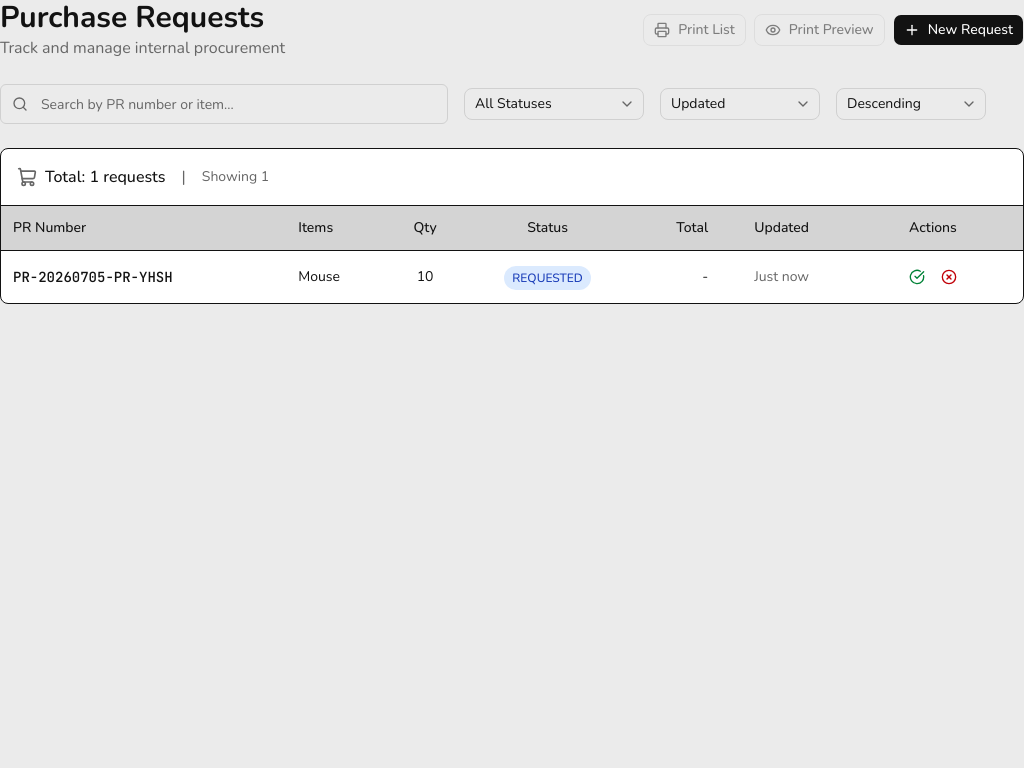
Test: PurchaseRequestsClient › opens reject dialog when reject button clicked
This screenshot has width=1024, height=768.
Click the button titled "Reject" at (949, 277), box [935,263,963,291]
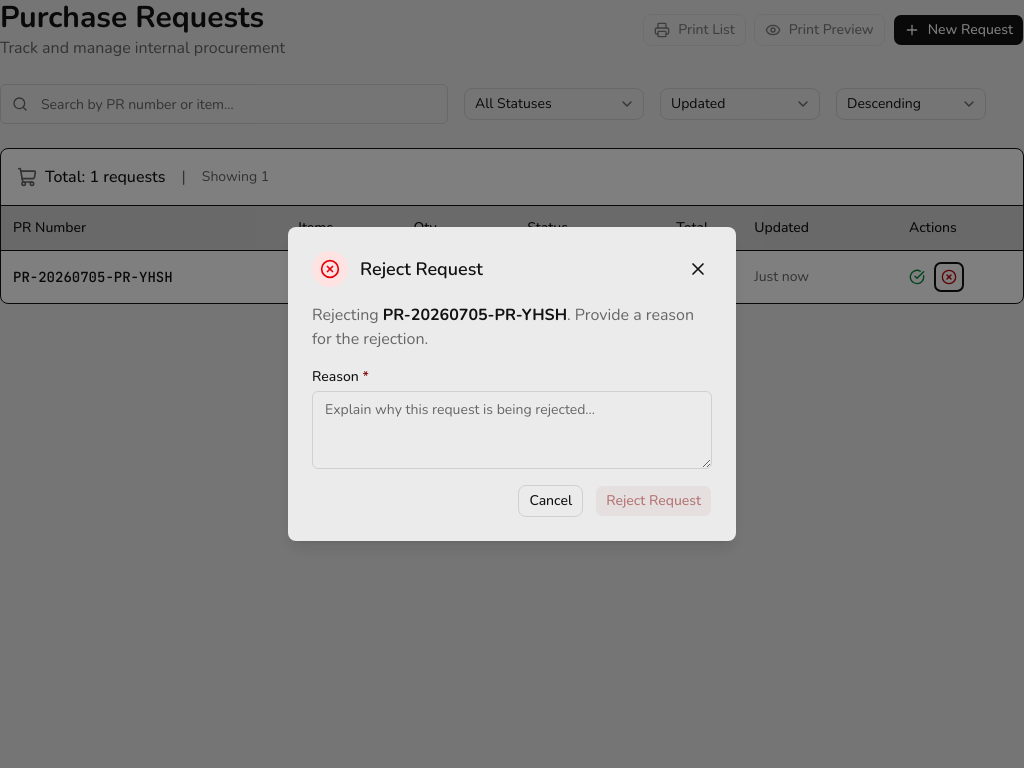
Check: the heading "Reject Request" is shown, box [360,255,483,283]
